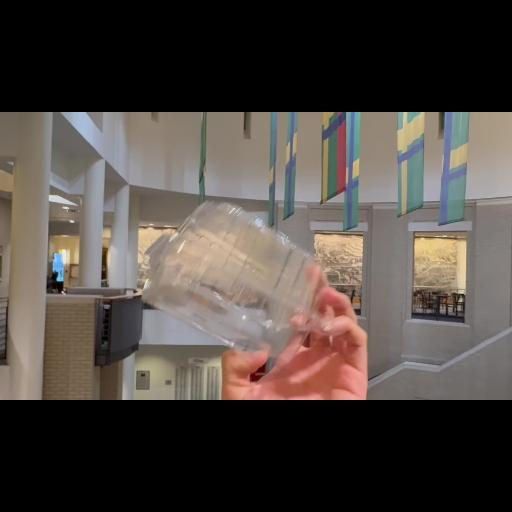small_plastic_container: (128, 193, 318, 369)
